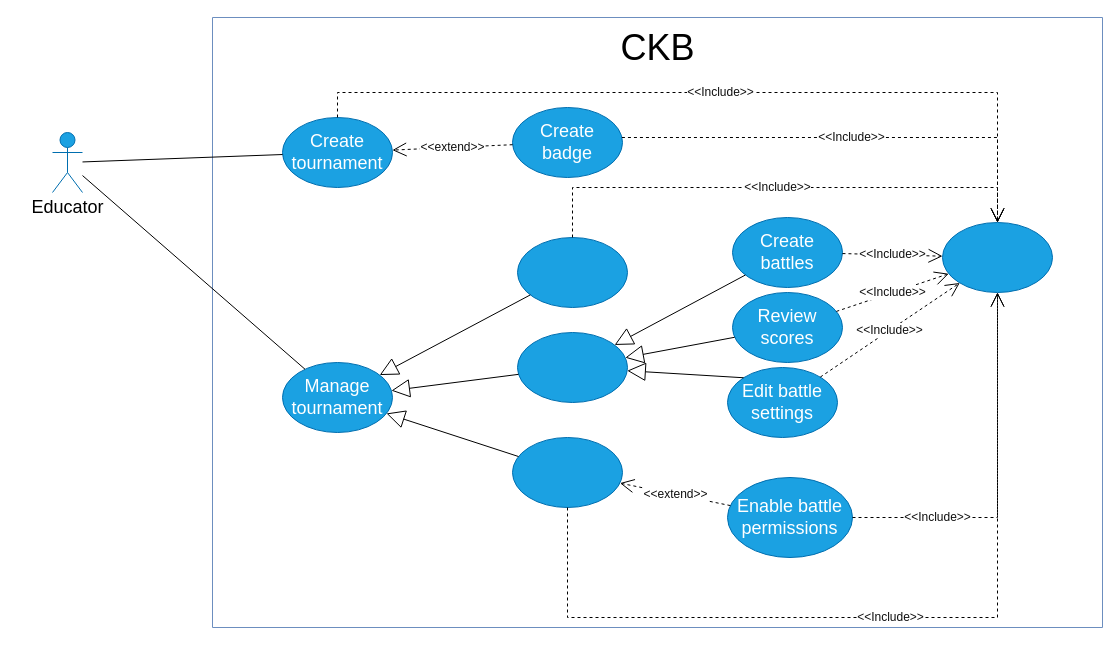
Image size: 1120x649. Some labels were removed from this diagram. The shapes that lost their labels are listed below. From the top down, each one's centre as x and y in pixels, then its label:
At (x=572, y=272): "Close tournament".
At (x=997, y=257): "Login".
At (x=572, y=367): "Manage battles".
At (x=567, y=472): "Edit settings".
